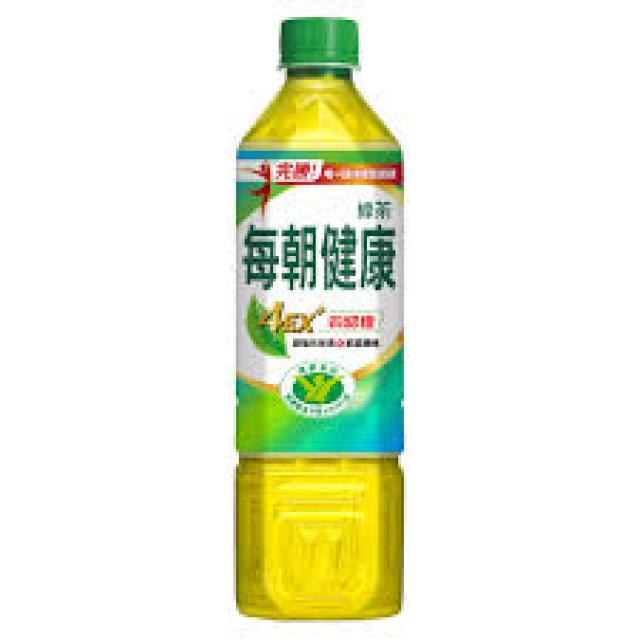MeiChou_GreenTea: (202, 15, 426, 625)
